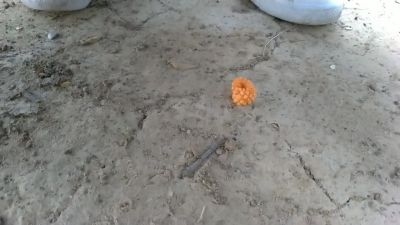eggs: (234, 75, 257, 110)
